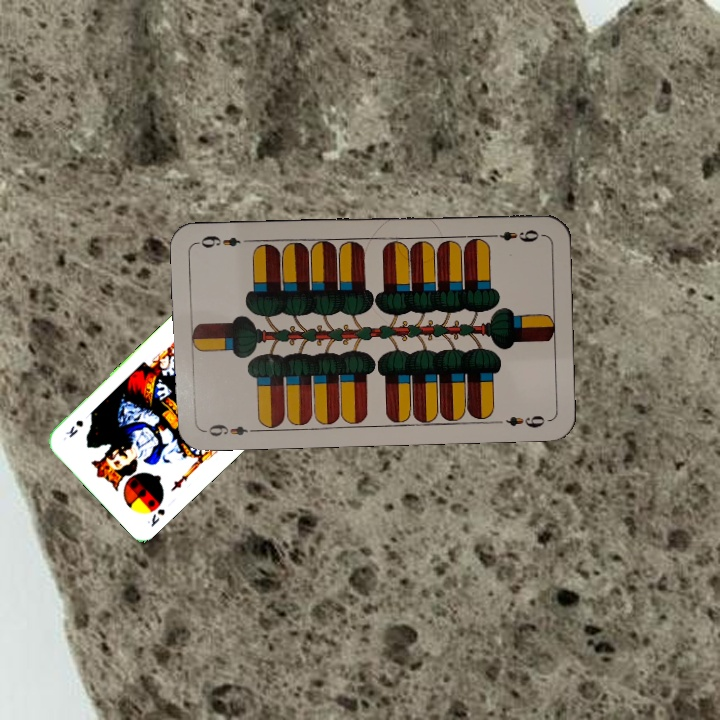E9: (485, 226, 544, 245), (200, 420, 259, 439)
SK: (143, 505, 168, 530)
